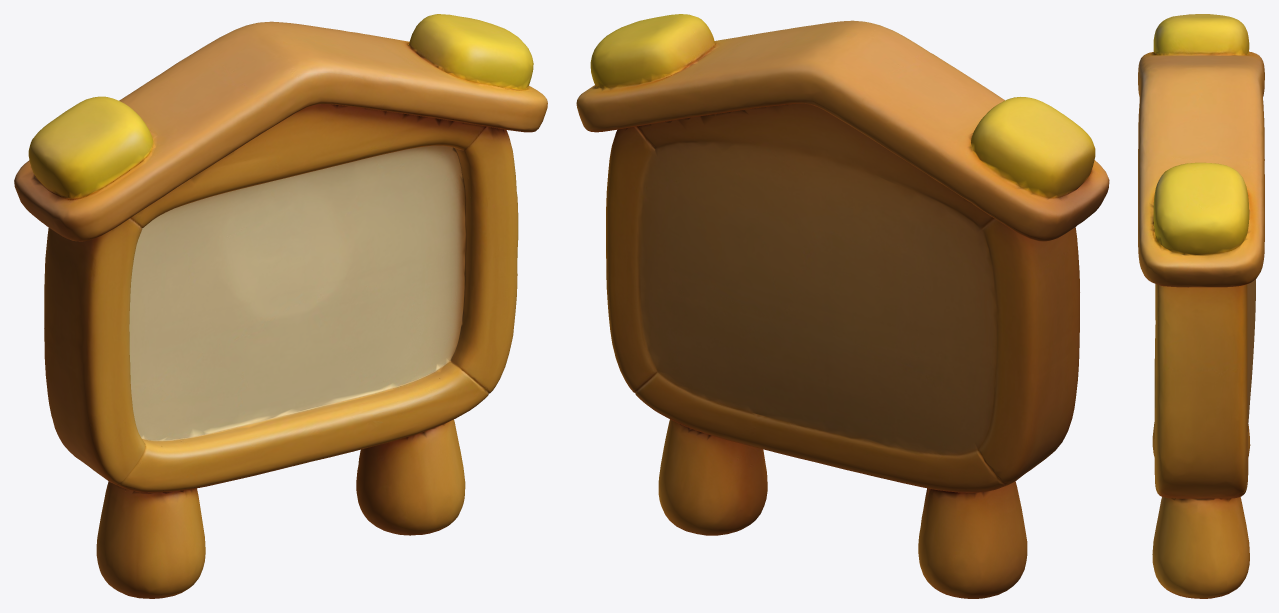
File: goal-board.glb
3 views of the same model, side by side, from view 1: azimuth 30°, elevation 25°; view 2: azimuth 150°, elevation 25°; view 3: azimuth 270°, elevation 25° (orthographic). The views are drawn at different scales.
Visible parts, largest first — view 1: tripo_node_f0b37020-d3fd-4c60-9487-1b773c768184; view 2: tripo_node_f0b37020-d3fd-4c60-9487-1b773c768184; view 3: tripo_node_f0b37020-d3fd-4c60-9487-1b773c768184.
Part boxes in pixels (x1=…): tripo_node_f0b37020-d3fd-4c60-9487-1b773c768184: x1=14, y1=14, x2=547, y2=598; tripo_node_f0b37020-d3fd-4c60-9487-1b773c768184: x1=576, y1=14, x2=1109, y2=598; tripo_node_f0b37020-d3fd-4c60-9487-1b773c768184: x1=1138, y1=14, x2=1264, y2=598.
Size of the model in its own units: 0.9922 by 1 by 0.2491.
Materials: 1 (1 with a texture image).
